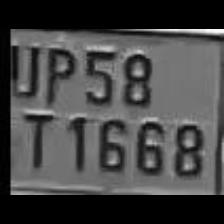1: (57, 107, 90, 176)
5: (76, 41, 116, 106)
6: (91, 114, 129, 176), (129, 116, 167, 178)
8: (116, 46, 156, 112), (167, 118, 207, 180)
P: (38, 40, 78, 105)
T: (13, 108, 57, 170)
U: (2, 38, 44, 100)
